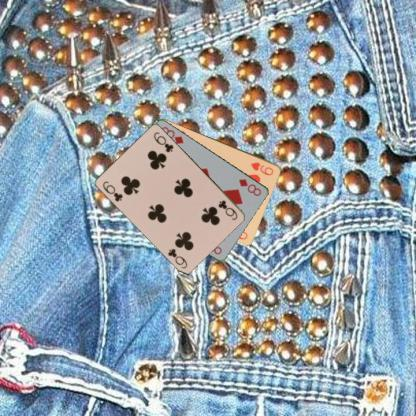6c: (100, 178, 124, 203), (216, 198, 239, 221)
8d: (236, 176, 263, 197)
9h: (248, 159, 275, 177)
